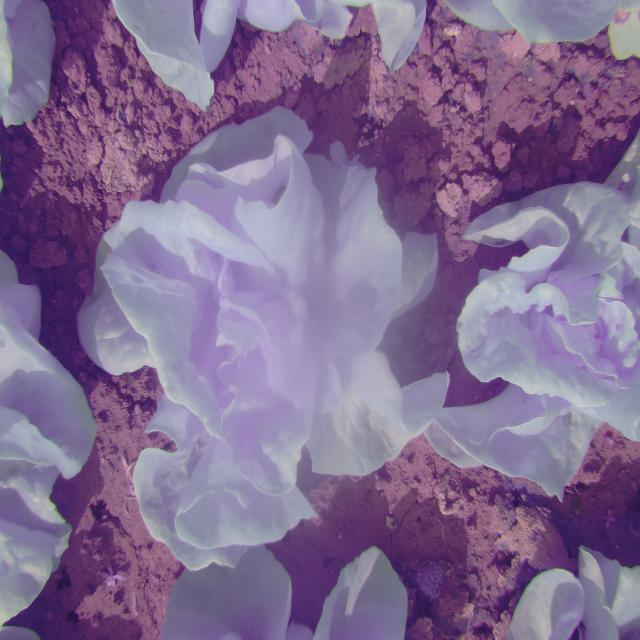vege: (85, 112, 450, 562)
